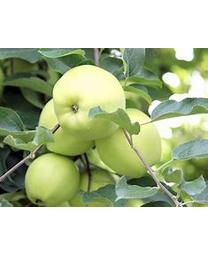apple: (52, 65, 124, 139), (96, 109, 161, 176), (37, 99, 95, 156), (24, 152, 79, 205)
